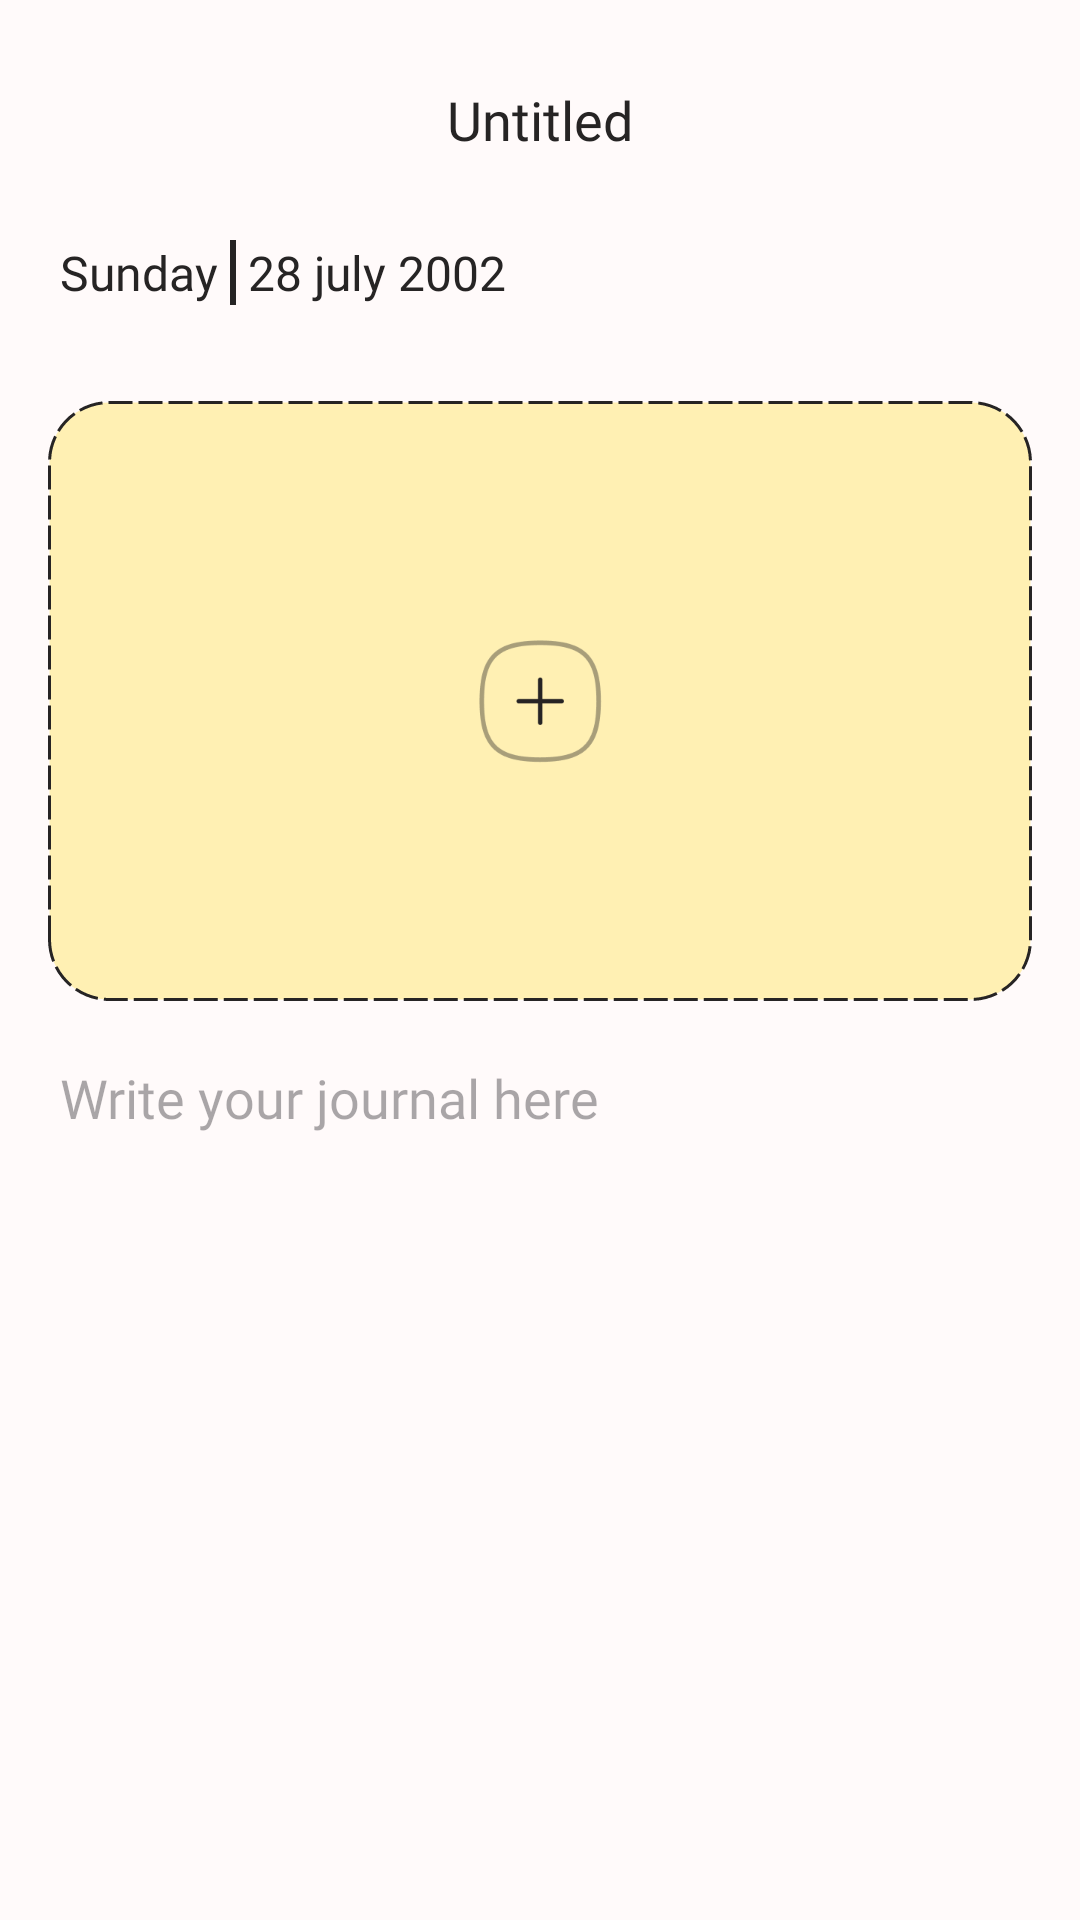

Icons on this 1080 x 1920 Android screen, each with the point to tap as (x,y):
plus two toned: (540,701)
